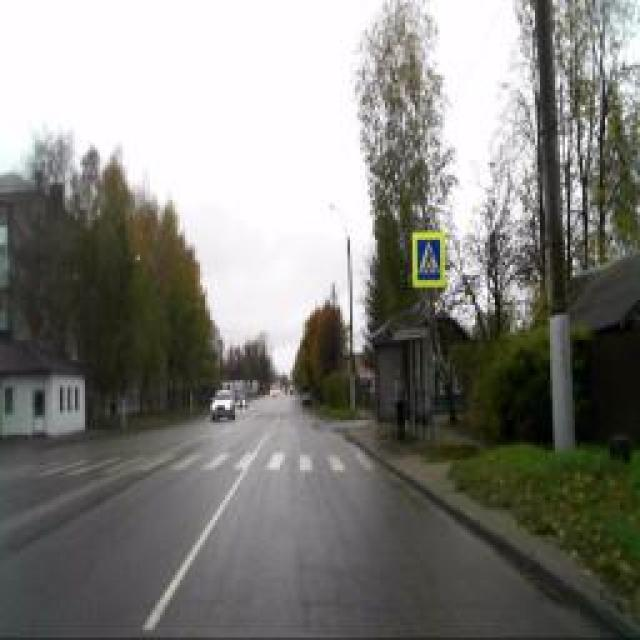sign: (416, 238, 442, 280)
